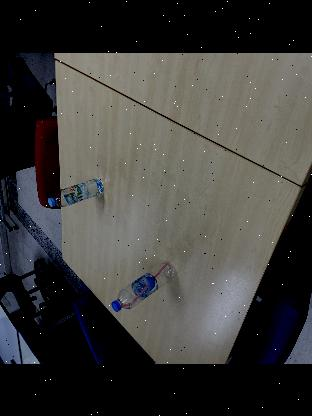Plastic Bottle: (110, 259, 178, 311), (46, 177, 106, 207)
